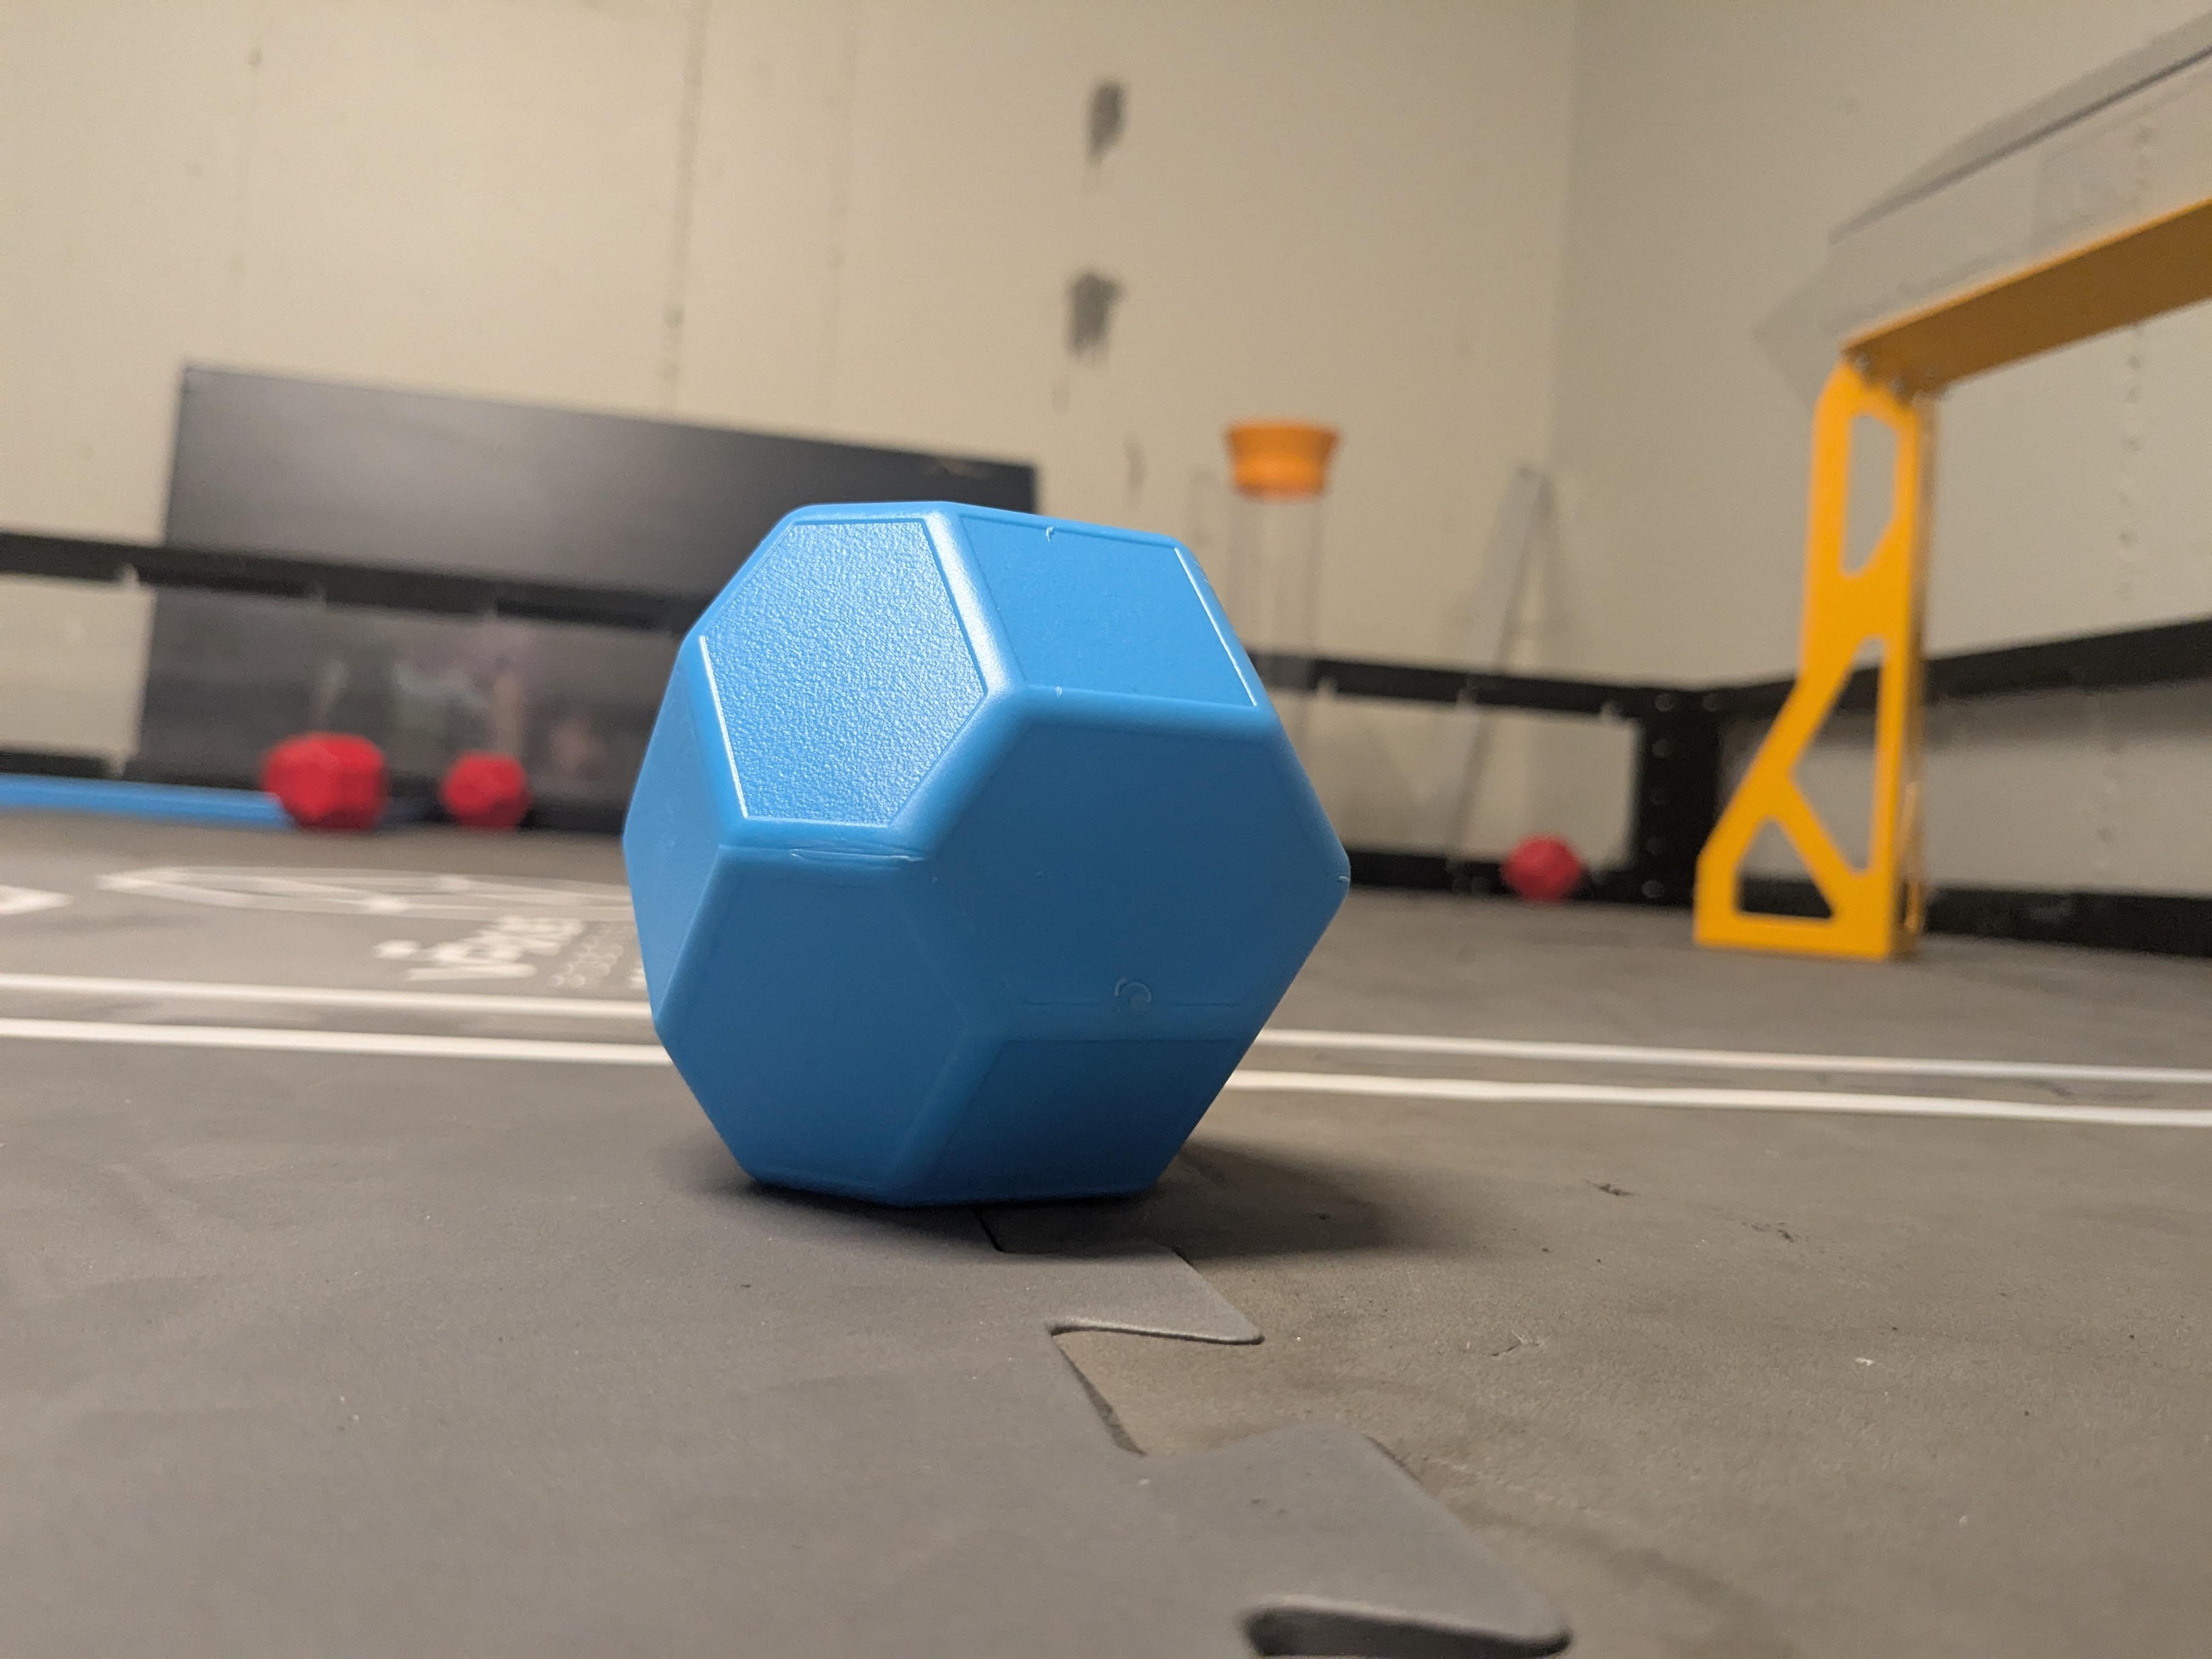Vex-Pieces-BLUE: (632, 500, 1350, 1209)
